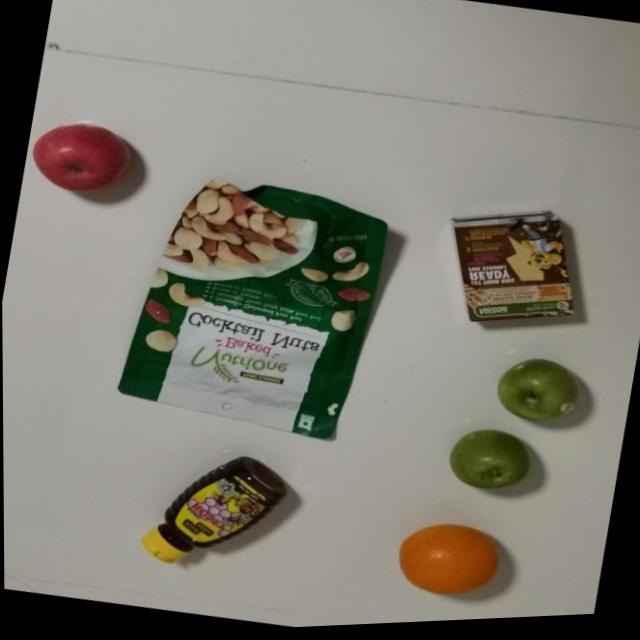Apple: (424, 423, 535, 517), (25, 113, 136, 207), (477, 348, 588, 441)
Cerealbox: (426, 189, 603, 349)
Orange: (390, 516, 501, 610)
